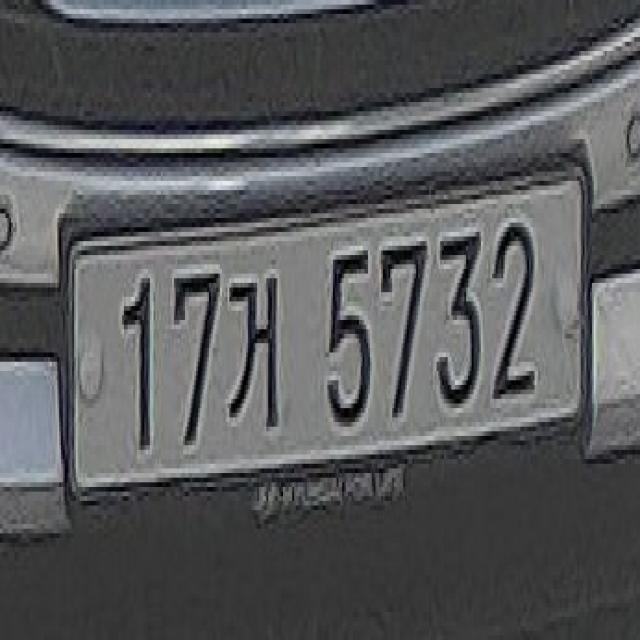1: (116, 251, 164, 468)
2: (490, 204, 542, 417)
3: (435, 218, 490, 422)
5: (320, 227, 374, 441)
7: (167, 251, 226, 468), (377, 223, 433, 431)
geo: (226, 250, 288, 450)
license_plate: (53, 125, 598, 561)
